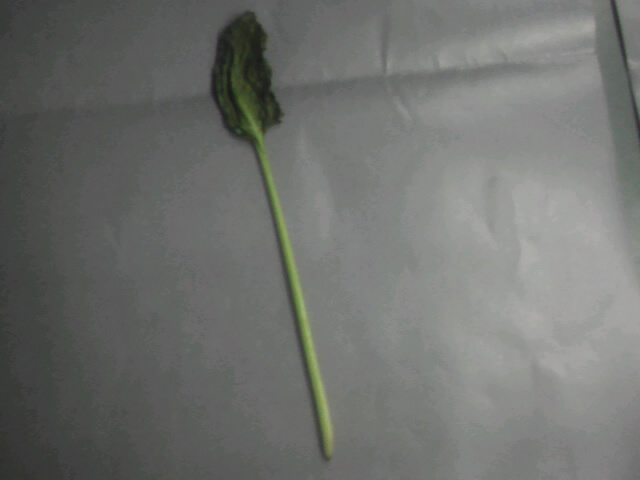yellow: (212, 11, 336, 430)
